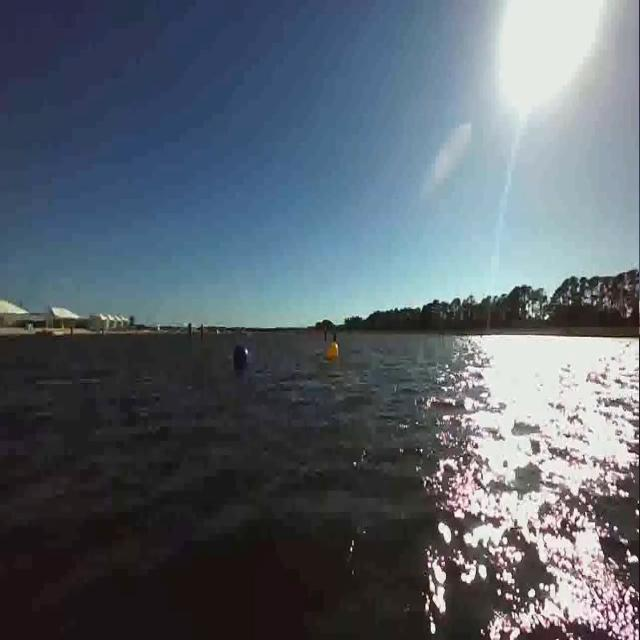blue-buoy: (234, 344, 248, 366)
yellow-buoy: (327, 341, 339, 362)
